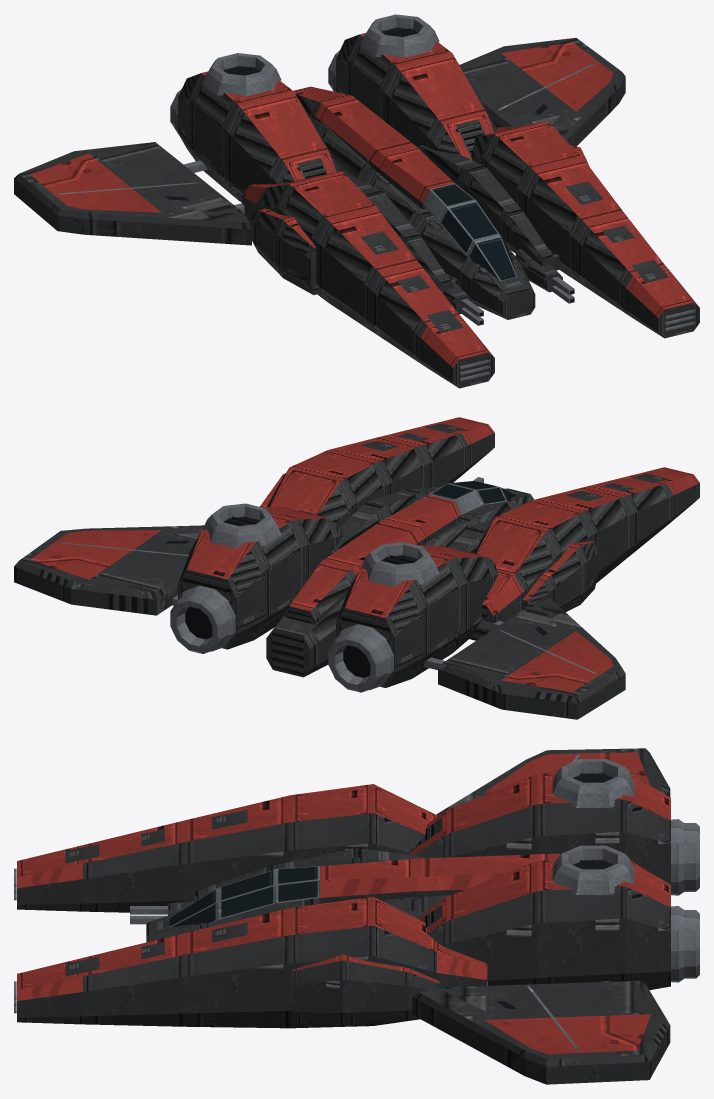
The model's file is demon.glb.
3 views of the same model, one above another, from view 1: azimuth 30°, elevation 25°; view 2: azimuth 150°, elevation 25°; view 3: azimuth 270°, elevation 25° (orthographic). The views are drawn at different scales.
Parts seen in each view (by area): view 1: demon · textured rebuild; view 2: demon · textured rebuild; view 3: demon · textured rebuild.
Part boxes in pixels (<box>): demon · textured rebuild: <box>14,14,699,388</box>; demon · textured rebuild: <box>14,417,699,719</box>; demon · textured rebuild: <box>14,748,699,1084</box>.
Bounding box in the file's own units: 2.16 × 0.4629 × 2.
2 materials, 2 textured.
